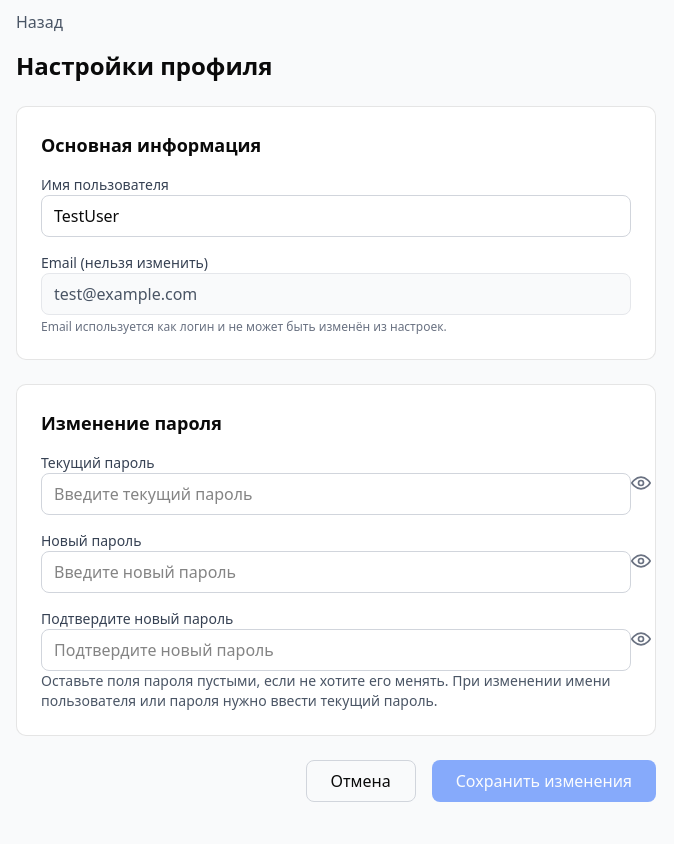
Scenario: SimpleSettingsPage › валидация: пароль › новый пароль длиннее 12 символов — «Пароль должен быть не более 12 символов»
Type "oldpass" into the password field labelled "Текущий пароль" at (336, 494), box [41,473,631,515]
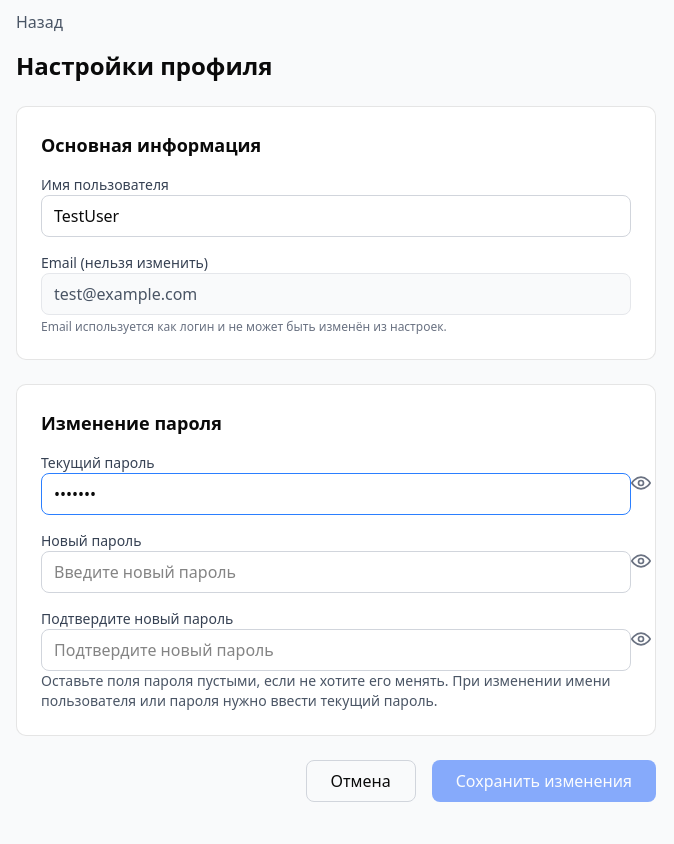
Type "1234567890123" into the password field labelled "Новый пароль" at (336, 572), box [41,551,631,593]
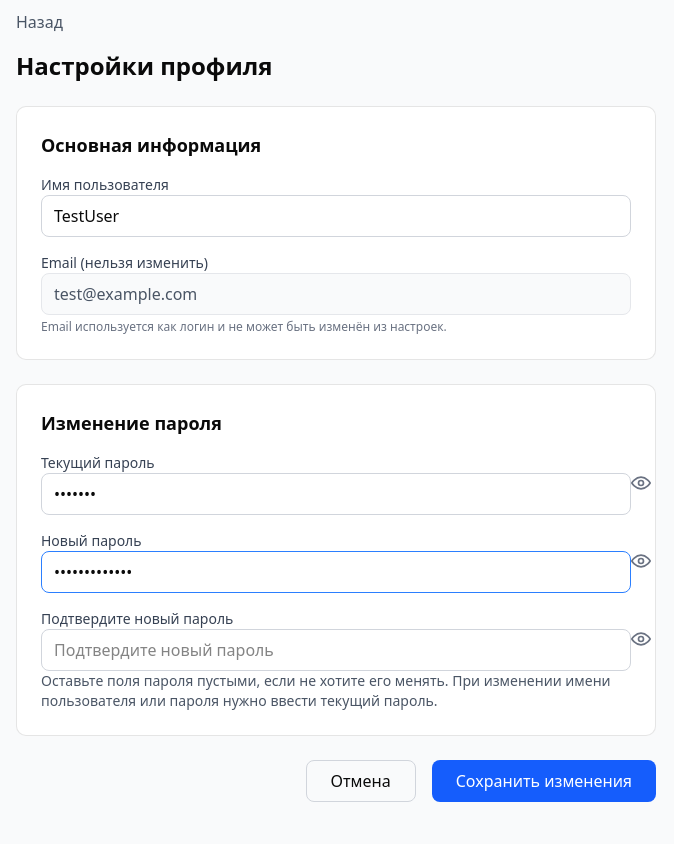
Type "1234567890123" into the password field labelled "Подтвердите новый пароль" at (336, 650), box [41,629,631,671]
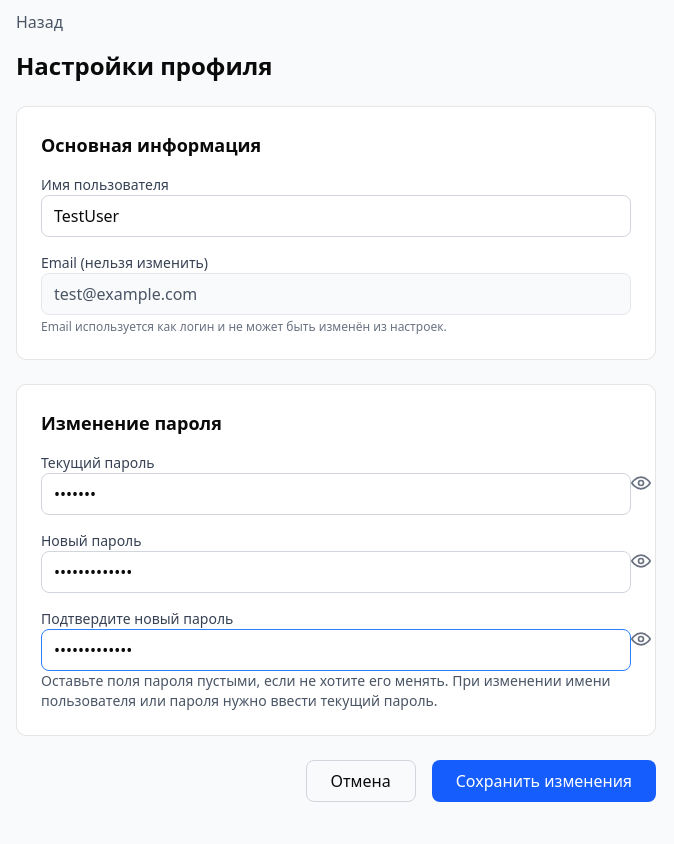
Click the button "Сохранить изменения" at (544, 781), box [432,760,656,802]
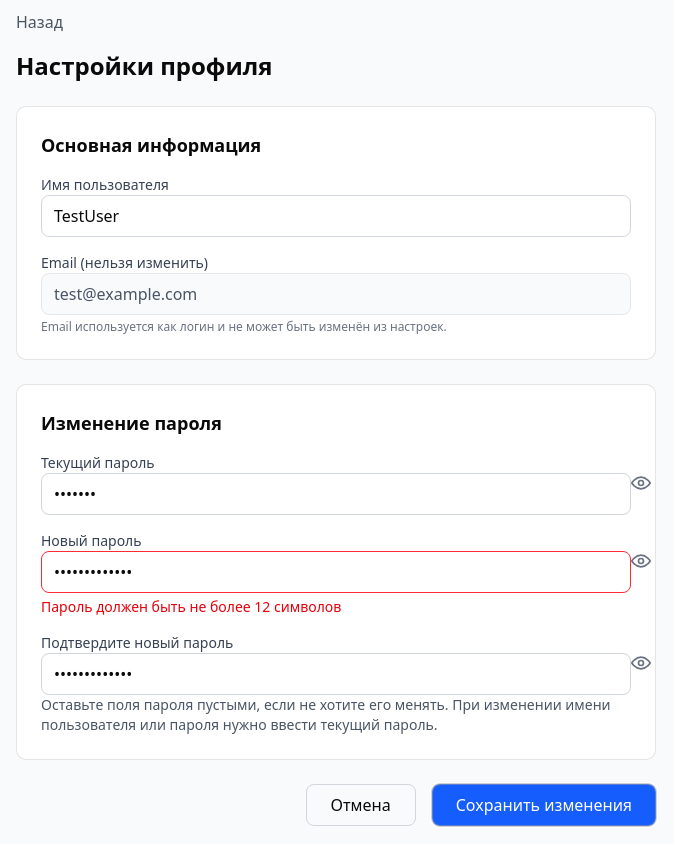
Now the text "Пароль должен быть не более 12 символов" is shown, box [41,597,341,616]
